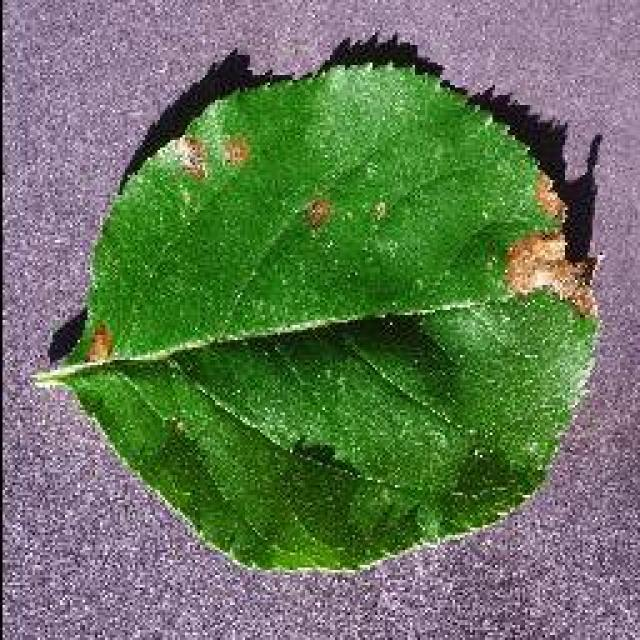apple scab disease: (38, 30, 608, 575)
